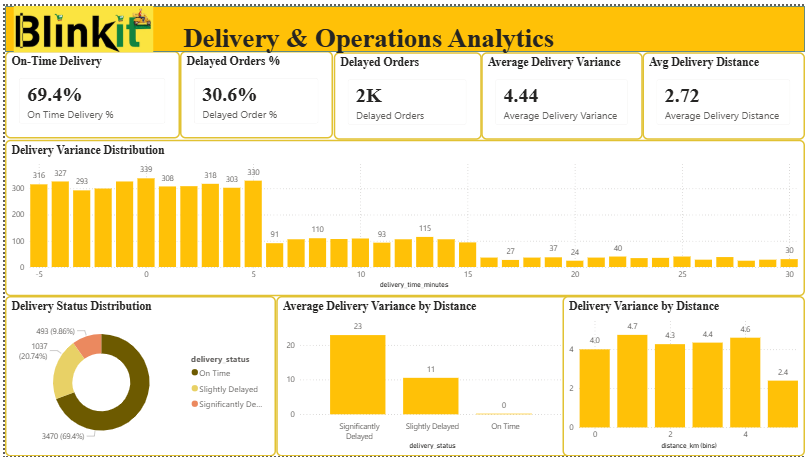

This screenshot's page, from the dashboard's own definition file:
{"tool":"powerbi","page":{"name":"Delivery & Operations Analytics","canvas":[1280,720],"ordinal":2},"visuals":[{"type":"cardVisual","title":"On-Time Delivery","fields":{"Data":["DateTable.On Time Delivery %"]},"box":[0,72.5,280,140],"z":0},{"type":"cardVisual","title":"Delayed Orders %","fields":{"Data":["DateTable.Delayed Order %"]},"box":[280,72.5,245,140],"z":1000},{"type":"cardVisual","title":"Delayed Orders","fields":{"Data":["DateTable.Delayed Orders"]},"box":[525,73.3,236.7,140],"z":2000},{"type":"cardVisual","title":"Average Delivery Variance","fields":{"Data":["DateTable.Average Delivery Time"]},"box":[761.7,73.3,258.3,140],"z":3000},{"type":"cardVisual","title":"Avg Delivery Distance","fields":{"Data":["Delivery.Average Delivery Distance"]},"box":[1020,73.3,260,140],"z":4000},{"type":"shape","box":[0,0,1280,73.3],"z":5000},{"type":"image","box":[1.7,0,246.7,73.3],"z":6000},{"type":"donutChart","title":"Delivery Status Distribution","fields":{"Category":["Delivery.delivery_status"],"Y":["DateTable.Delivery Orders"]},"box":[0,463.3,433.3,256.7],"z":7000},{"type":"clusteredColumnChart","title":"Delivery Variance Distribution","fields":{"Y":["DateTable.Delivery Orders"],"Category":["Delivery.delivery_time_minutes"]},"box":[0,213.3,1280,250],"z":8000},{"type":"clusteredColumnChart","title":"Average Delivery Variance by Distance","fields":{"Category":["Delivery.delivery_status"],"Y":["DateTable.Average Delivery Variance"]},"box":[433.3,463.3,471.7,256.7],"z":9000},{"type":"clusteredColumnChart","title":"Delivery Variance by Distance","fields":{"Category":["Delivery.distance_km (bins)"],"Y":["DateTable.Average Delivery Variance"]},"box":[891.7,463.3,388.3,256.7],"z":10000},{"type":"textbox","box":[280,21.7,661.7,63.3],"z":11000}]}

Visuals, with their boxes in screenshot pixels (x1, y1, x2, y2), scaled from the page's 1280x720 canvas onto the 805x457 screenshot:
"On-Time Delivery" cardVisual: x1=0 y1=46 x2=176 y2=135
"Delayed Orders %" cardVisual: x1=176 y1=46 x2=330 y2=135
"Delayed Orders" cardVisual: x1=330 y1=47 x2=479 y2=135
"Average Delivery Variance" cardVisual: x1=479 y1=47 x2=641 y2=135
"Avg Delivery Distance" cardVisual: x1=641 y1=47 x2=804 y2=135
shape: x1=0 y1=0 x2=804 y2=47
image: x1=1 y1=0 x2=156 y2=47
"Delivery Status Distribution" donutChart: x1=0 y1=294 x2=273 y2=456
"Delivery Variance Distribution" clusteredColumnChart: x1=0 y1=135 x2=804 y2=294
"Average Delivery Variance by Distance" clusteredColumnChart: x1=273 y1=294 x2=569 y2=456
"Delivery Variance by Distance" clusteredColumnChart: x1=561 y1=294 x2=804 y2=456
textbox: x1=176 y1=14 x2=592 y2=54
